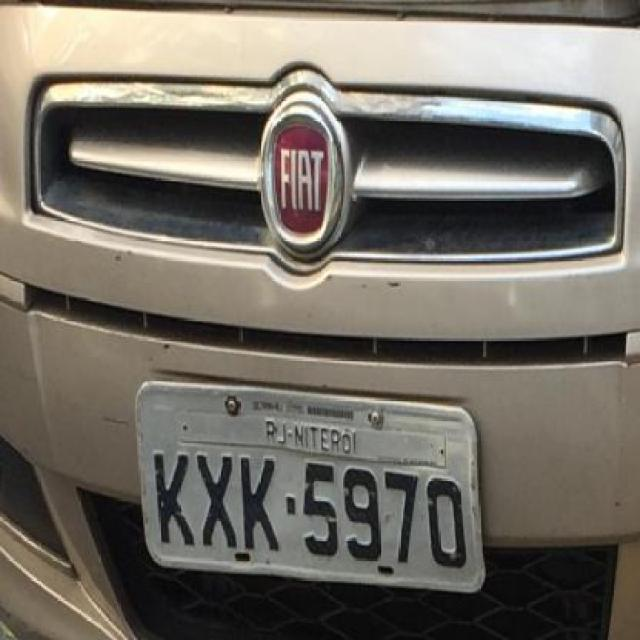old_plate: (127, 368, 494, 599)
